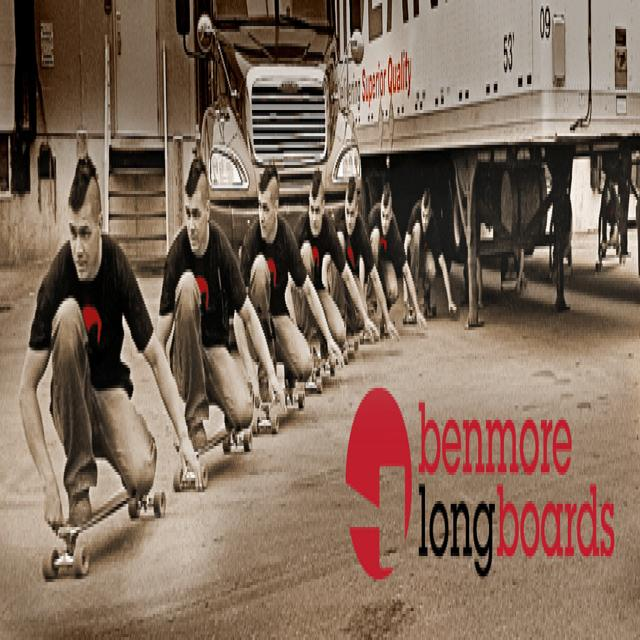Vehicle: (341, 2, 639, 334), (196, 1, 362, 259)
